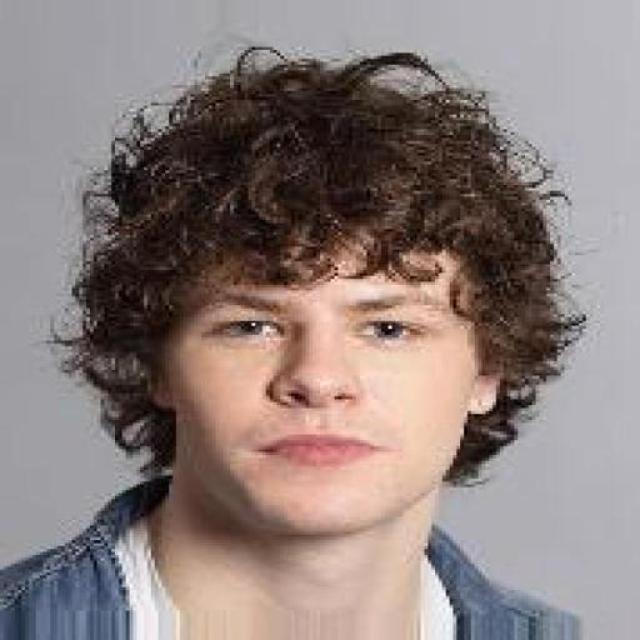bareface: (138, 103, 522, 520)
